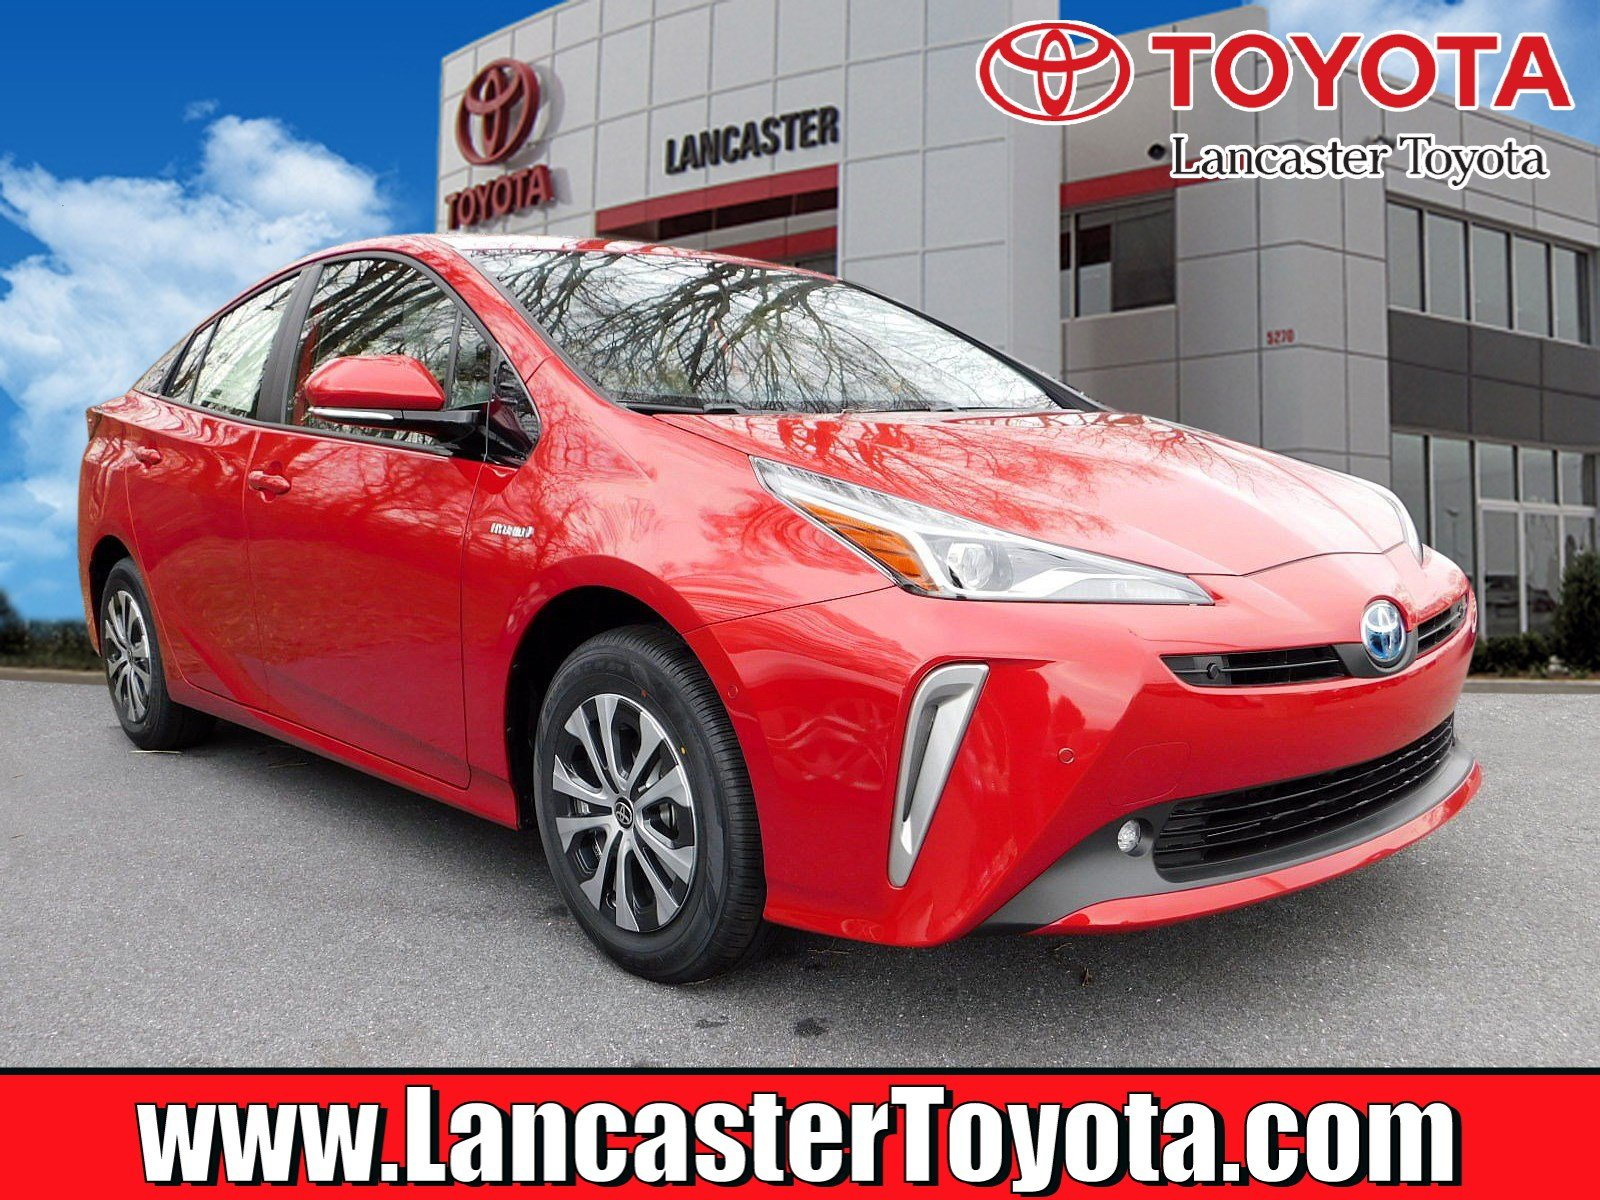Toyota Prius: (71, 224, 1493, 989)
